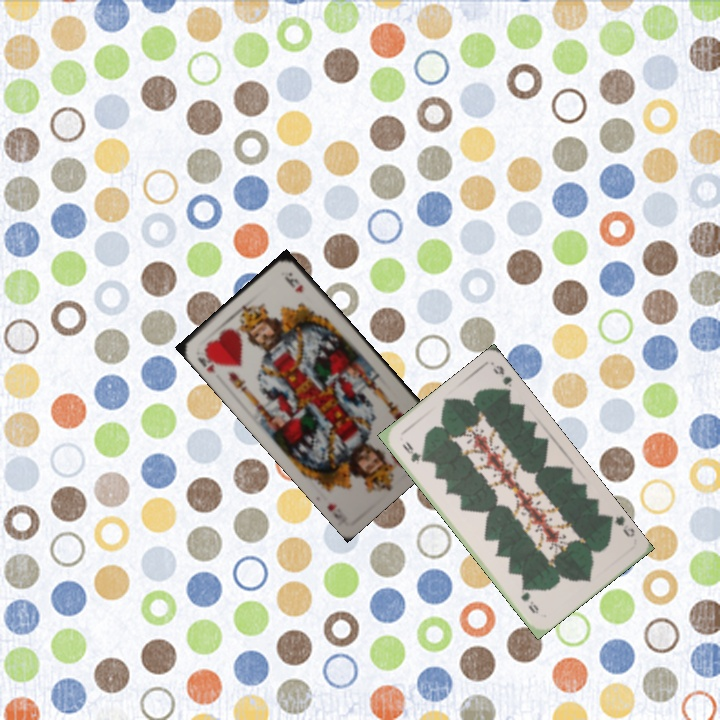G9: (605, 512, 637, 540), (398, 437, 426, 465)
HK: (193, 345, 221, 376)
